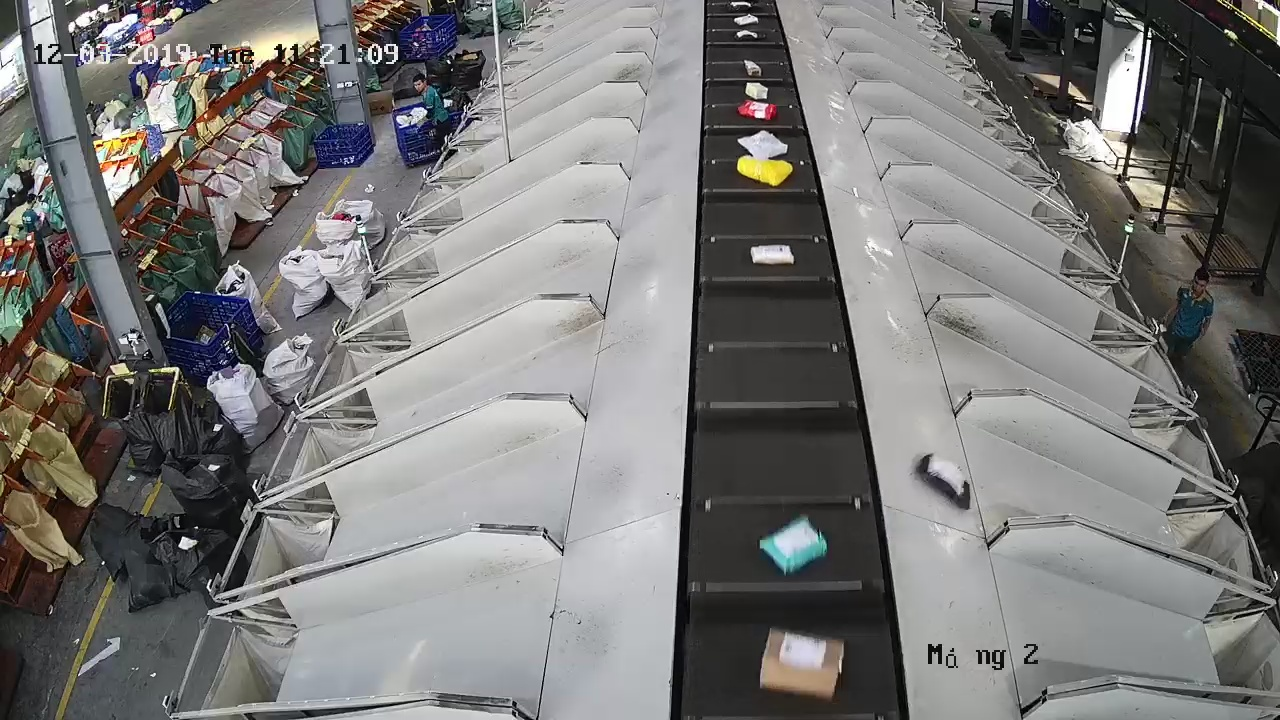parcel: (758, 626, 846, 705), (758, 514, 829, 577), (916, 452, 972, 511), (749, 243, 795, 266)
